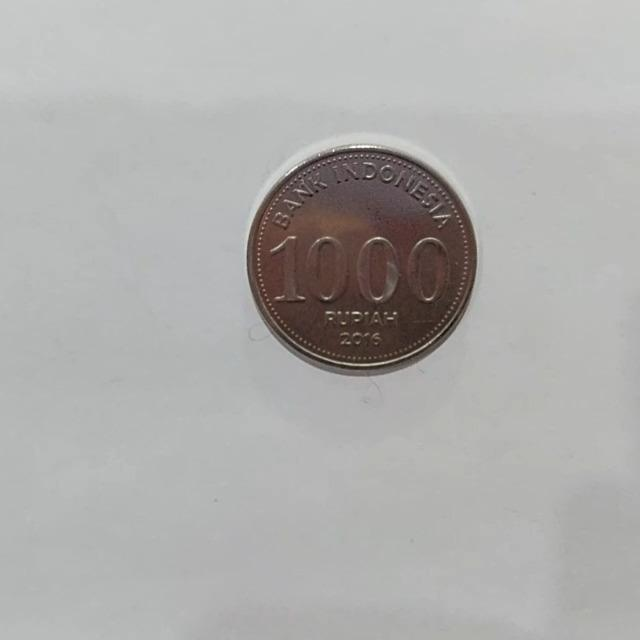Rp100: (244, 135, 478, 377)
